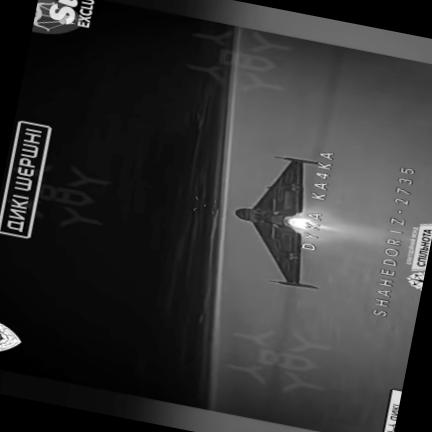Shahed: (235, 156, 318, 287)
